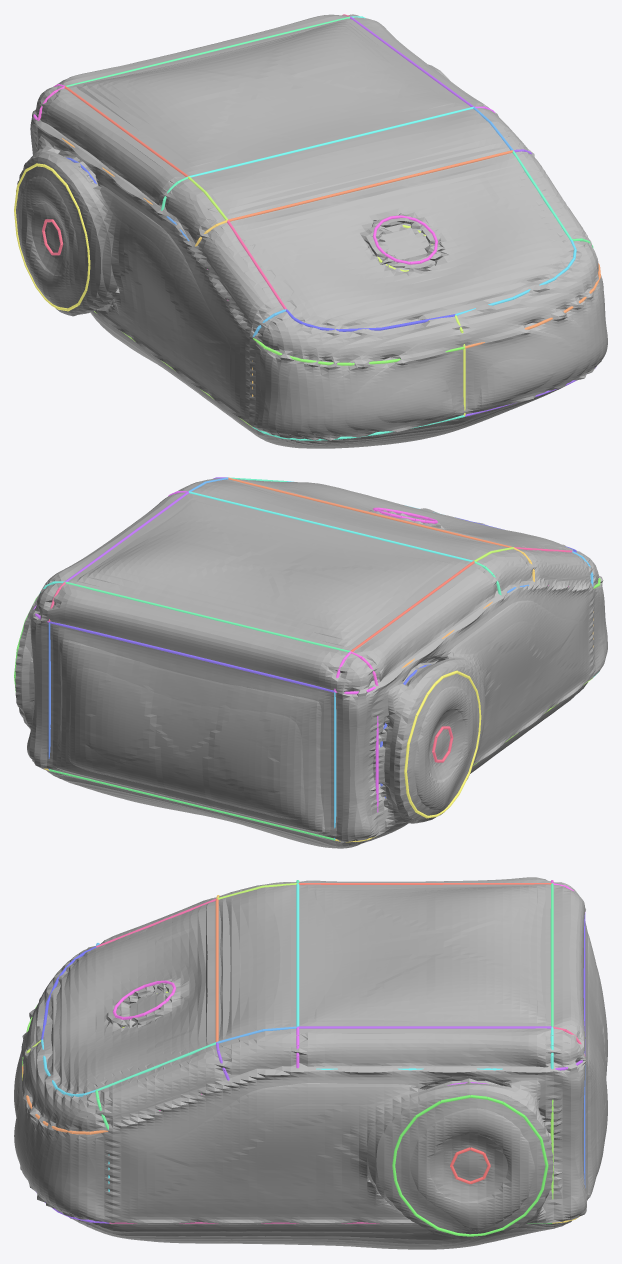
The model's file is onshape_vacuum.gltf.
3 renders of one model, top to bottom at view 1: azimuth 30°, elevation 25°; view 2: azimuth 150°, elevation 25°; view 3: azimuth 270°, elevation 25°, orthographic. The views are drawn at different scales.
Size of the model in its own units: 0.6382 by 0.3539 by 0.7872.
